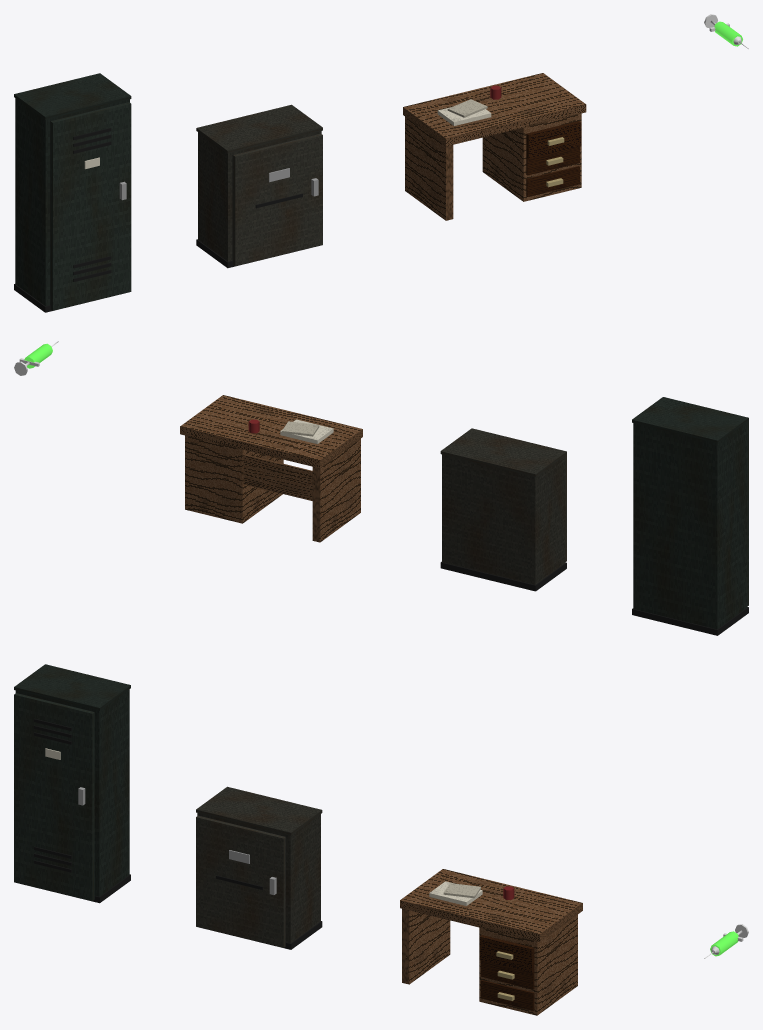
Rendered from syringe.glb.
3 renders of one model, top to bottom at view 1: azimuth 30°, elevation 25°; view 2: azimuth 150°, elevation 25°; view 3: azimuth 330°, elevation 25°, orthographic.
Visible parts, largest first — view 1: desk, locker_door, locker, cabinet_door, cabinet, desk_drawer; view 2: locker, desk, cabinet; view 3: desk, locker_door, locker, cabinet_door, cabinet, desk_drawer.
Part boxes in pixels (bbox=[...]): desk: bbox=[403, 73, 586, 220]; locker_door: bbox=[50, 102, 131, 310]; locker: bbox=[14, 73, 131, 312]; cabinet_door: bbox=[233, 133, 322, 266]; cabinet: bbox=[196, 104, 322, 268]; desk_drawer: bbox=[526, 121, 581, 158]; locker: bbox=[632, 397, 748, 635]; desk: bbox=[180, 395, 362, 542]; cabinet: bbox=[440, 428, 566, 591]; desk: bbox=[400, 869, 582, 1015]; locker_door: bbox=[14, 693, 94, 901]; locker: bbox=[14, 664, 130, 903]; cabinet_door: bbox=[196, 815, 285, 947]; cabinet: bbox=[196, 786, 322, 949]; desk_drawer: bbox=[479, 935, 534, 972].
Size of the model in its own units: 7.56 by 2 by 0.86.
17 materials, 8 textured.
